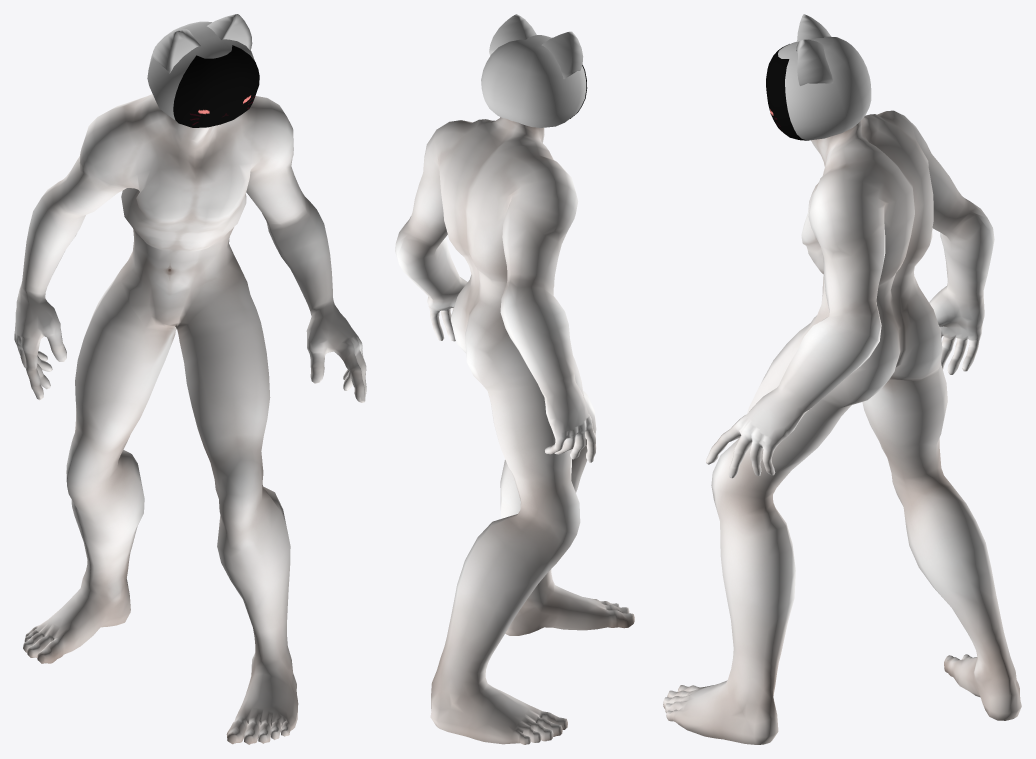
The picture shows the model from 3 angles, left to right: view 1: azimuth 30°, elevation 25°; view 2: azimuth 150°, elevation 25°; view 3: azimuth 270°, elevation 25°; orthographic projection. The views are drawn at different scales.
Parts seen in each view (by area): view 1: Muscle_Body, ______?001, Cat_Head; view 2: Muscle_Body, Cat_Head; view 3: Muscle_Body, Cat_Head, ______?001.
Boxes of the visible parts, bbox=[...] form: Muscle_Body: bbox=[14, 94, 366, 744]; ______?001: bbox=[173, 45, 259, 127]; Cat_Head: bbox=[147, 14, 254, 120]; Muscle_Body: bbox=[395, 117, 634, 744]; Cat_Head: bbox=[481, 14, 586, 127]; Muscle_Body: bbox=[663, 110, 1021, 744]; Cat_Head: bbox=[778, 14, 871, 140]; ______?001: bbox=[766, 44, 808, 140].
Size of the model in its own units: 10.98 by 27.79 by 13.06.
